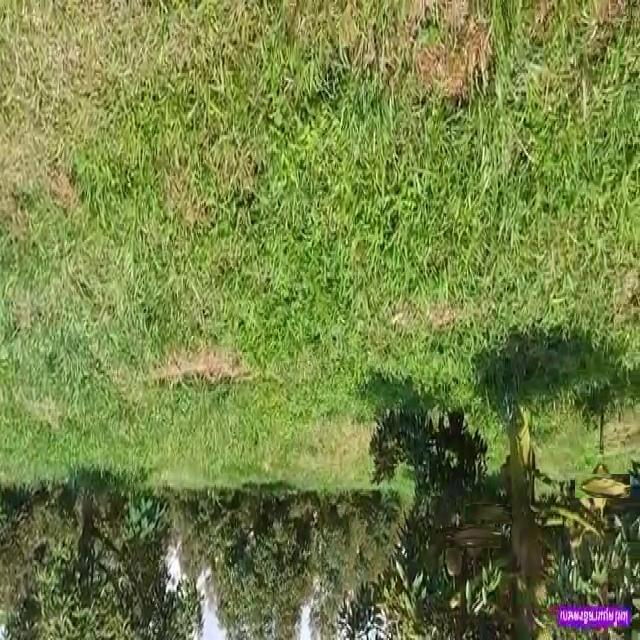durian: (582, 466, 622, 506), (454, 518, 493, 557), (471, 496, 505, 530), (446, 529, 466, 582)
